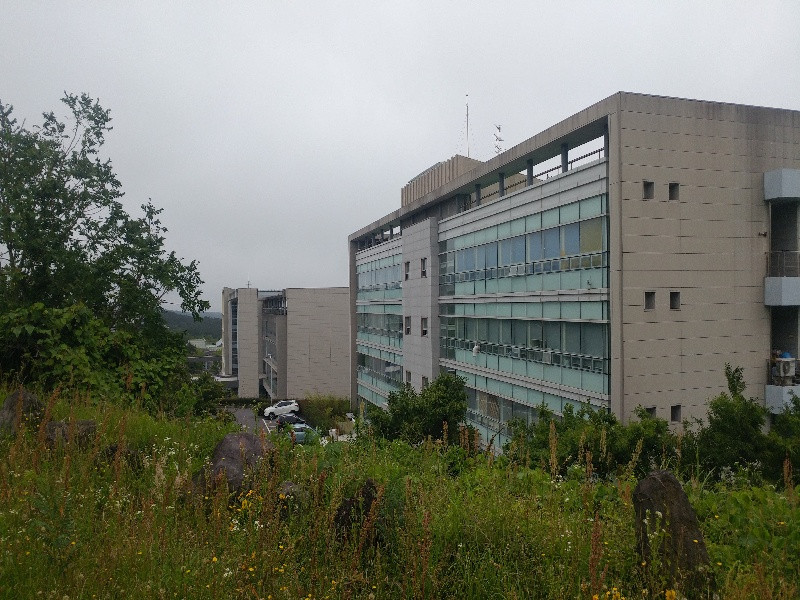College of Marine Science: (357, 138, 791, 431)
Engineering College Building 4: (216, 281, 351, 398)
